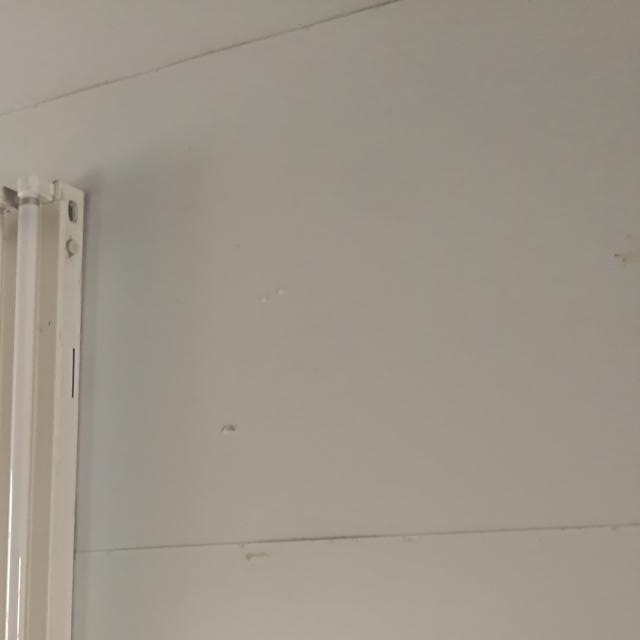fluorescent tube: (0, 161, 120, 640)
